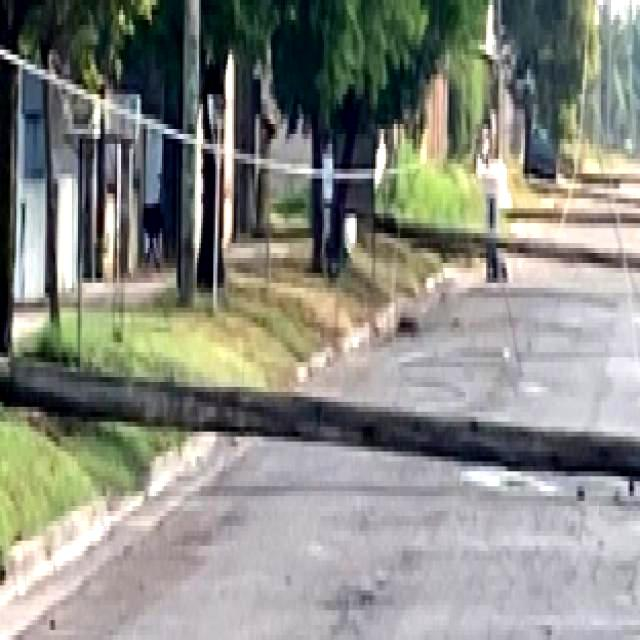Broken Pole: (1, 351, 640, 478)
